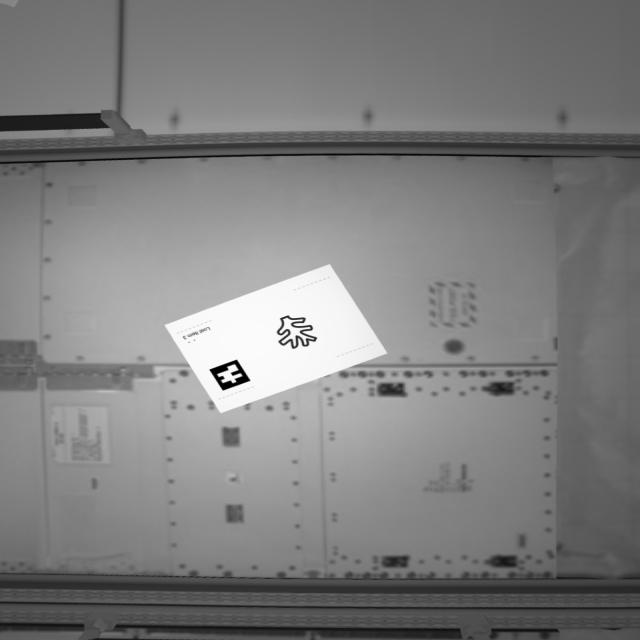coral: (273, 314, 321, 354)
